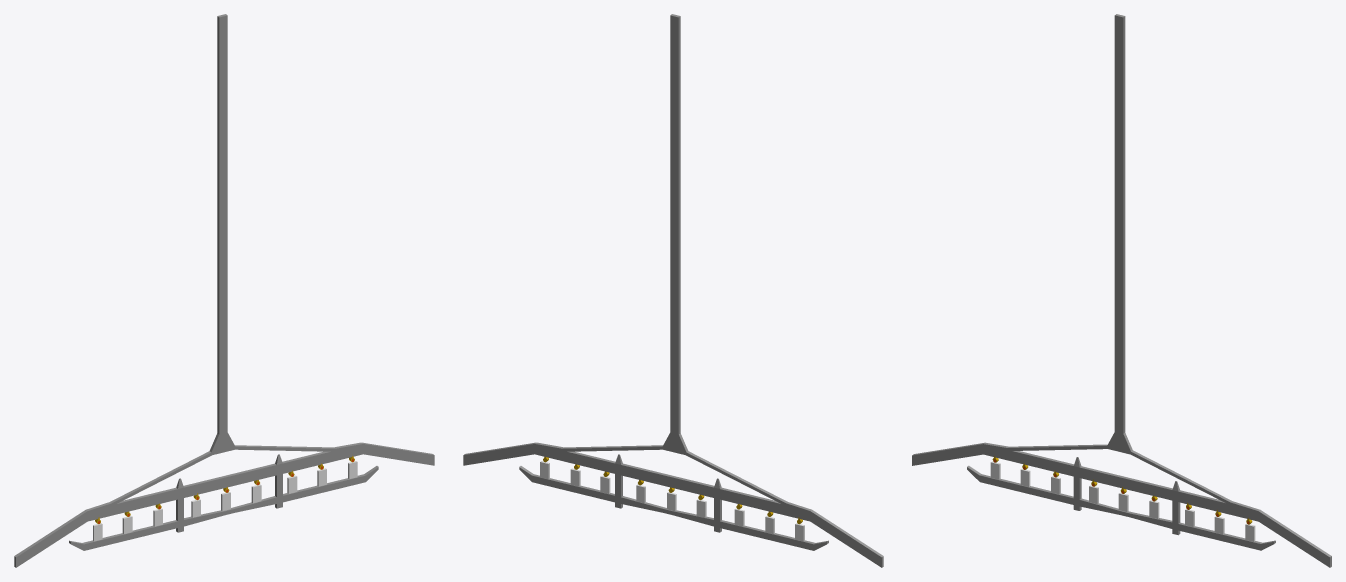
The model's file is ProtoThroneRoom_Chandelier.fbx.
3 views of the same model, side by side, from view 1: azimuth 30°, elevation 25°; view 2: azimuth 150°, elevation 25°; view 3: azimuth 330°, elevation 25° (orthographic).
Parts seen in each view (by area): view 1: Chandelier1; view 2: Chandelier1; view 3: Chandelier1.
Part boxes in pixels (x1,y1,x2,y2): Chandelier1: (14, 14, 434, 567); Chandelier1: (463, 14, 883, 567); Chandelier1: (912, 14, 1331, 567).
Size of the model in its own units: 304 by 351 by 2.4.
